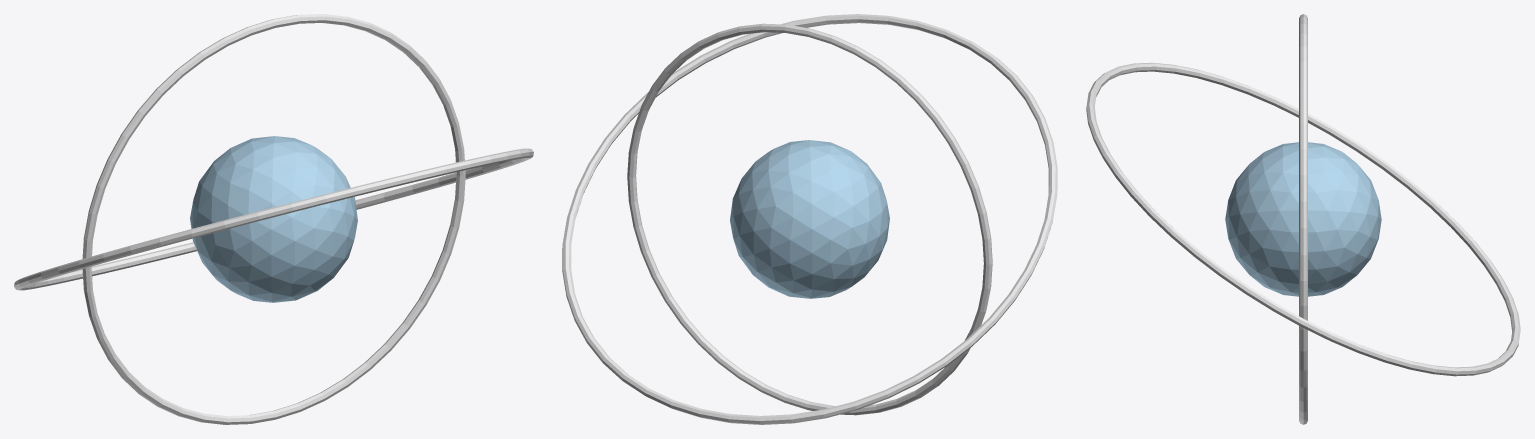
Rendered from orbital-mk-ii.glb.
3 views of the same model, side by side, from view 1: azimuth 30°, elevation 25°; view 2: azimuth 150°, elevation 25°; view 3: azimuth 270°, elevation 25° (orthographic). The views are drawn at different scales.
Visible parts, largest first — view 1: world; view 2: world; view 3: world.
Part boxes in pixels (x1,y1,x2,y2): world: [14, 14, 533, 424]; world: [562, 14, 1057, 424]; world: [1086, 14, 1520, 424].
Size of the model in its own units: 2 by 1.64 by 1.74.
1 material, 1 textured.
